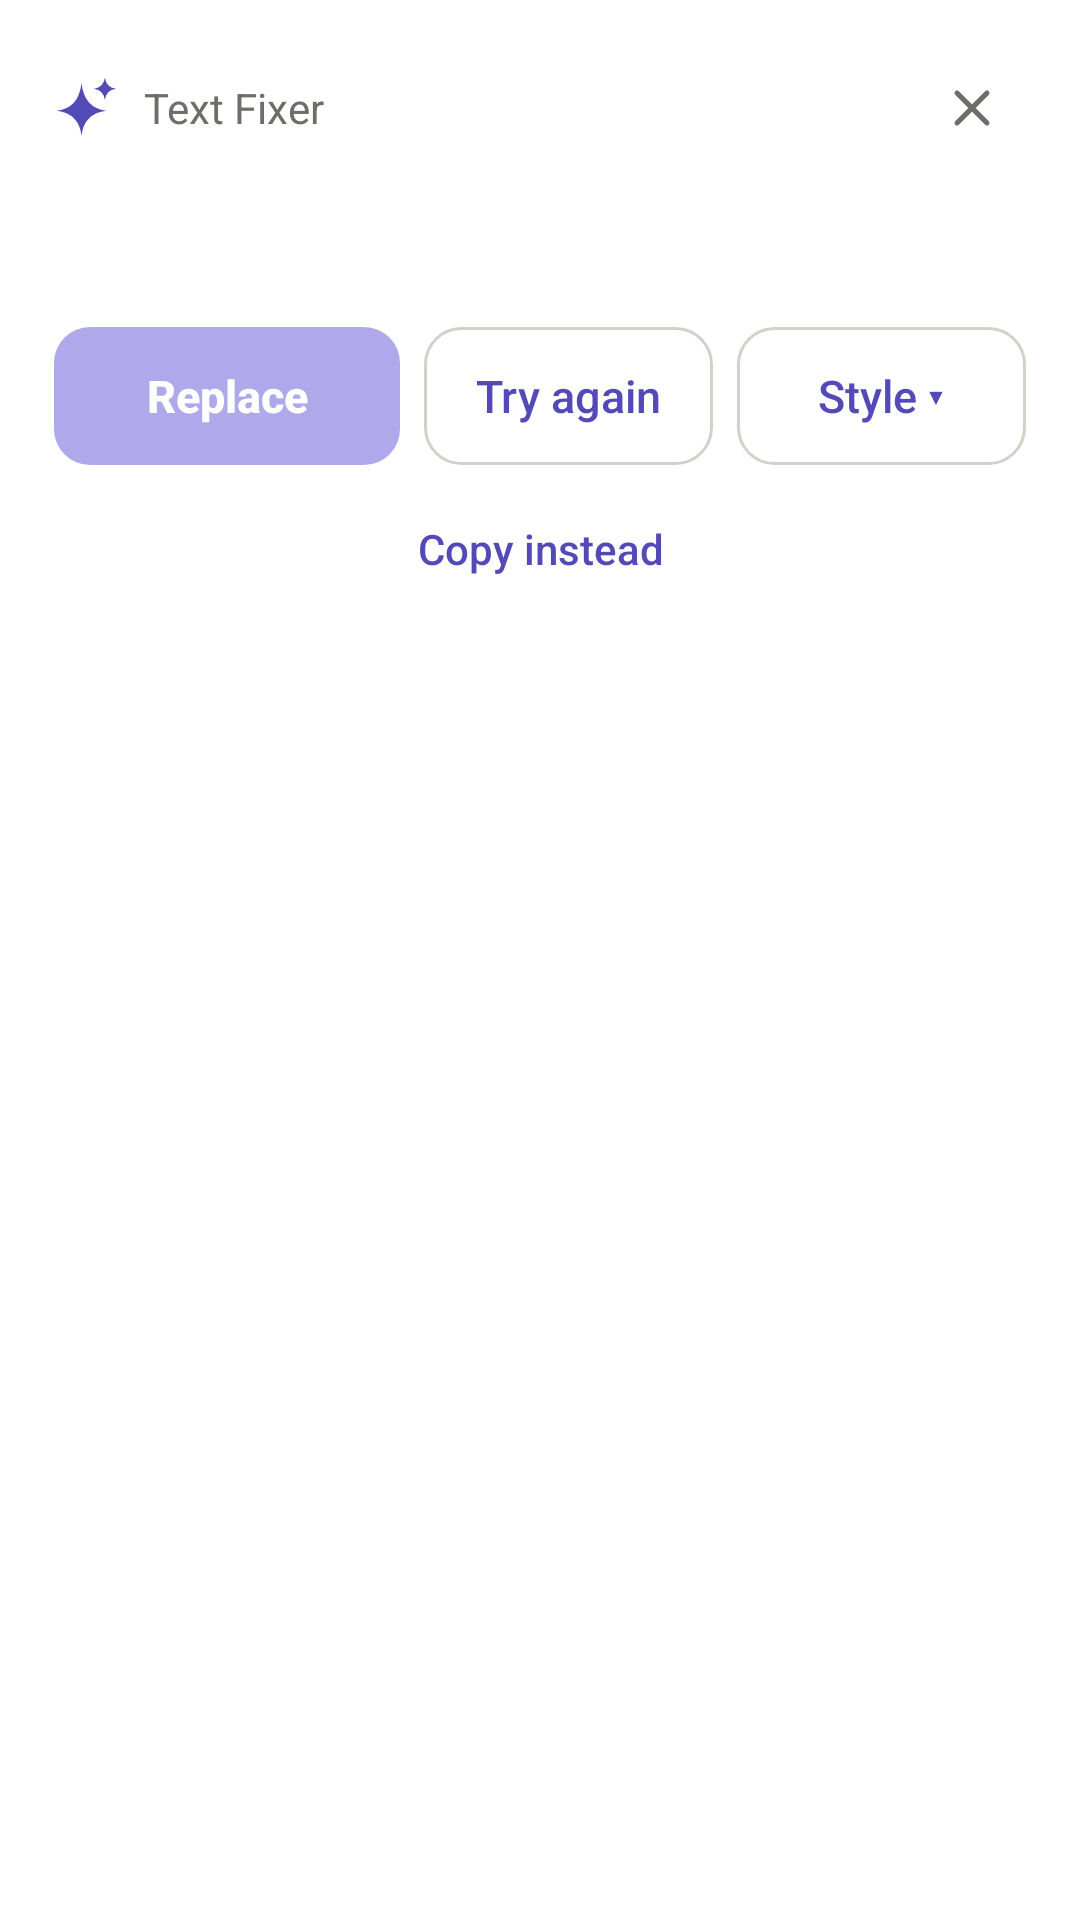

Screen size 1080x1920. Icon name, then its box in pixels as (x1,y1,x2,y2):
Close: (954,90,990,126)
sparkle: (57,78,116,135)
